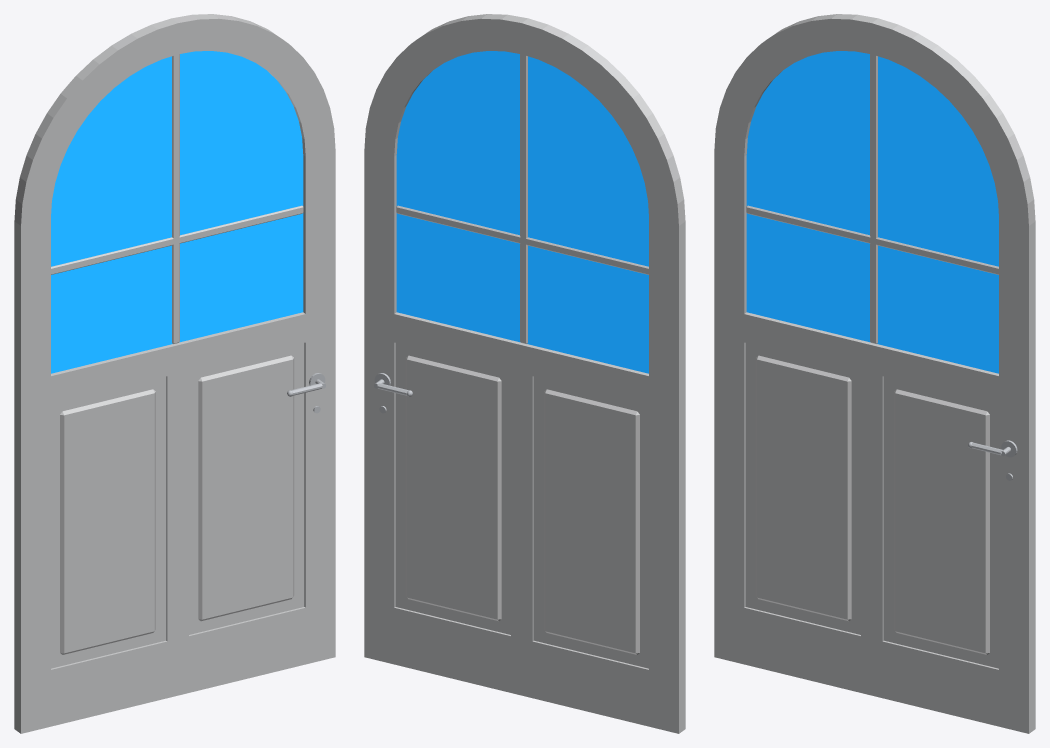
The model's file is porta_arco_branca.glb.
The picture shows the model from 3 angles, left to right: view 1: azimuth 30°, elevation 25°; view 2: azimuth 150°, elevation 25°; view 3: azimuth 330°, elevation 25°; orthographic projection.
Visible parts, largest first — view 1: porta_arco_branca; view 2: porta_arco_branca; view 3: porta_arco_branca.
Boxes of the visible parts, x1,y1,x2,y2 form: porta_arco_branca: (14, 14, 335, 733); porta_arco_branca: (364, 14, 685, 733); porta_arco_branca: (714, 14, 1035, 733).
Size of the model in its own units: 1.16 by 2.37 by 0.143.
